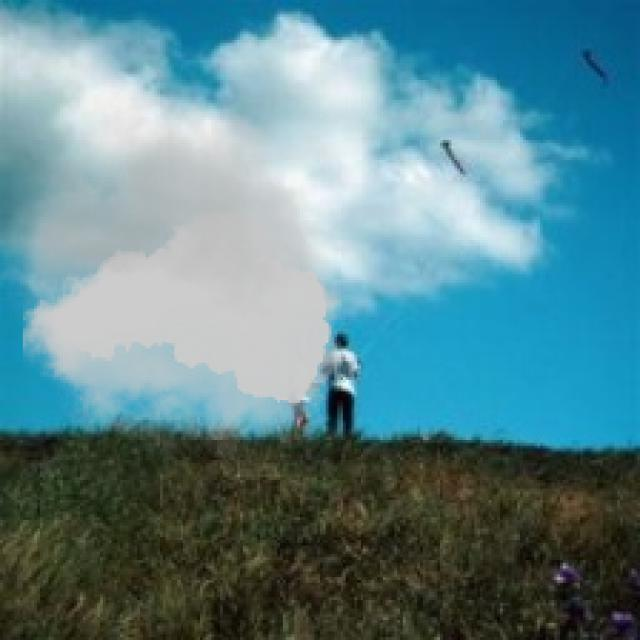Smoke: (0, 65, 355, 472)
